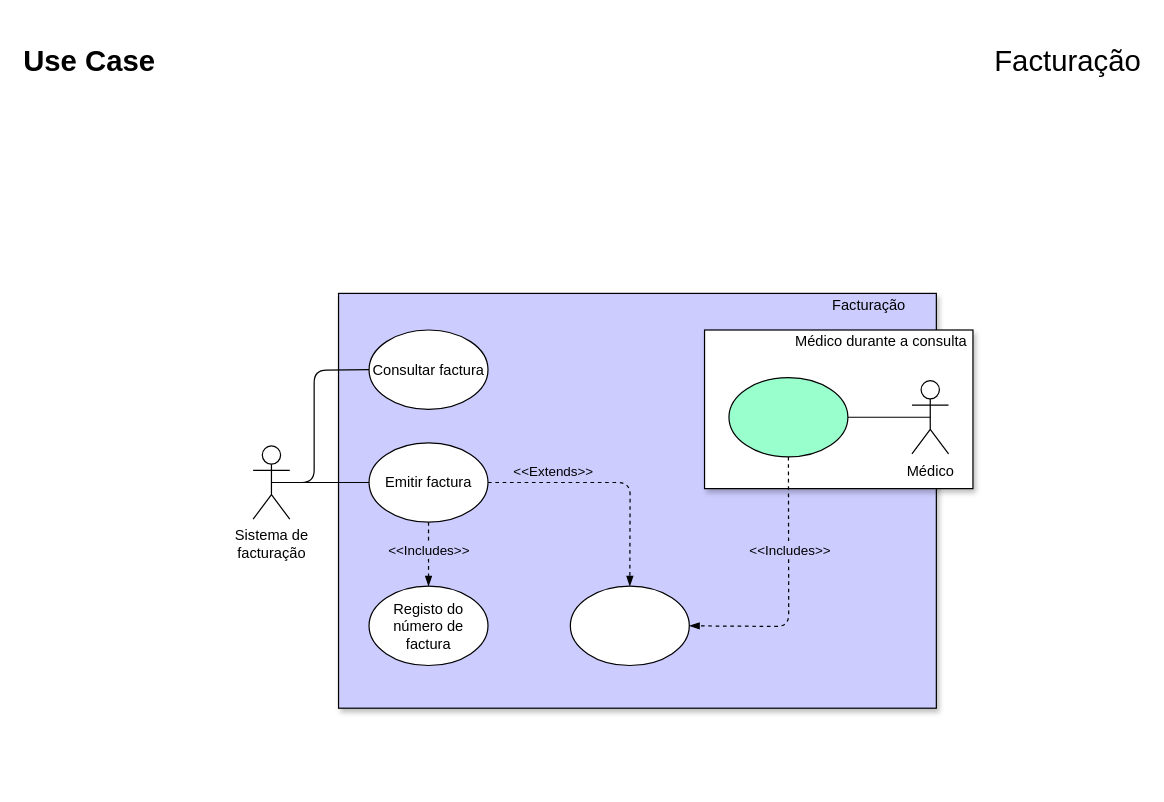
This 1164x802 diagram has some shape labels left out. Each missing label, with the centre of its shape:
"Solicitar emissão de factura" belongs at point (629, 625).
"Terminar consulta" belongs at point (788, 416).
